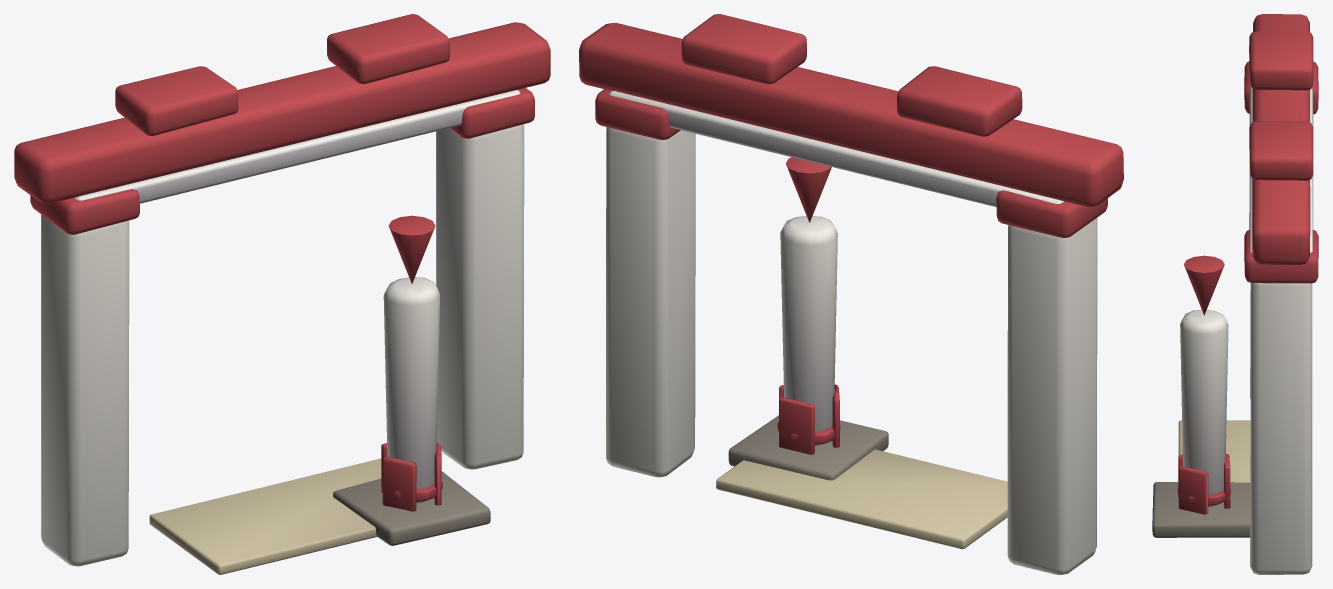
3 renders of one model, left to right at view 1: azimuth 30°, elevation 25°; view 2: azimuth 150°, elevation 25°; view 3: azimuth 270°, elevation 25°, orthographic. The views are drawn at different scales.
Visible parts, largest first — view 1: gate_a18a3556; view 2: gate_a18a3556; view 3: gate_a18a3556.
Part boxes in pixels (x1=…): gate_a18a3556: x1=14, y1=14, x2=550, y2=574; gate_a18a3556: x1=579, y1=14, x2=1123, y2=574; gate_a18a3556: x1=1152, y1=14, x2=1318, y2=574.
Bounding box in the file's own units: 5.02 × 4.2 × 1.62.
